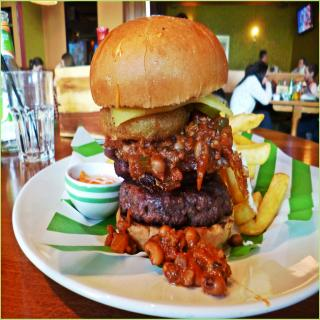French fries: (227, 116, 293, 242)
Hamburger: (90, 16, 250, 252)
